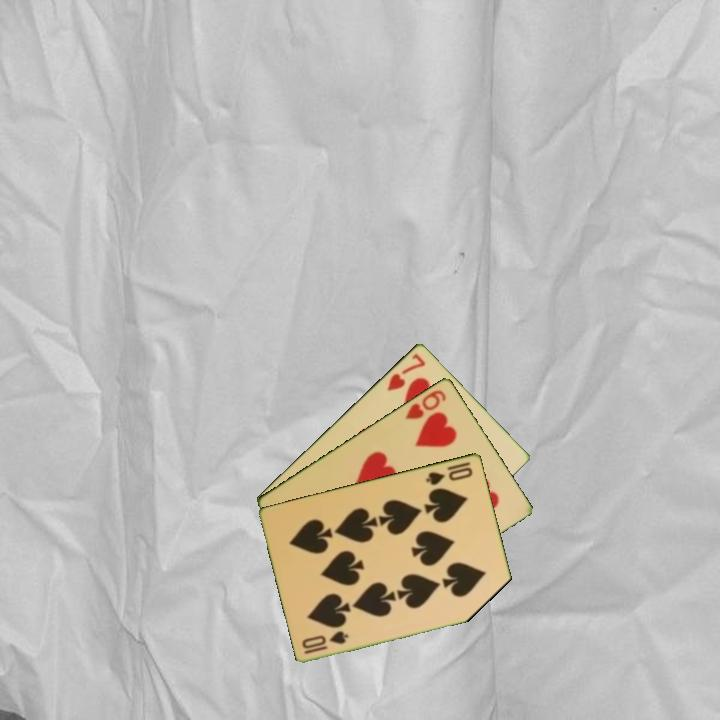10s: (299, 627, 351, 656), (423, 463, 476, 488)
6h: (402, 386, 449, 422)
7h: (384, 350, 428, 393)
